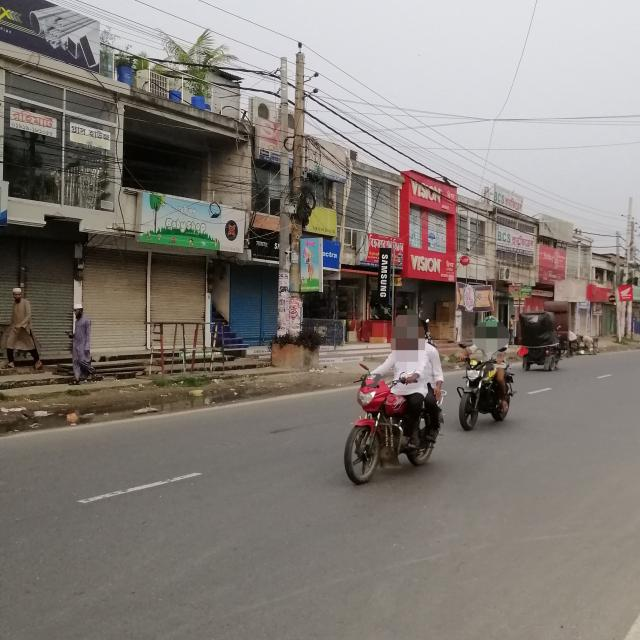Motorbike: (341, 365, 451, 491), (459, 344, 518, 433)
